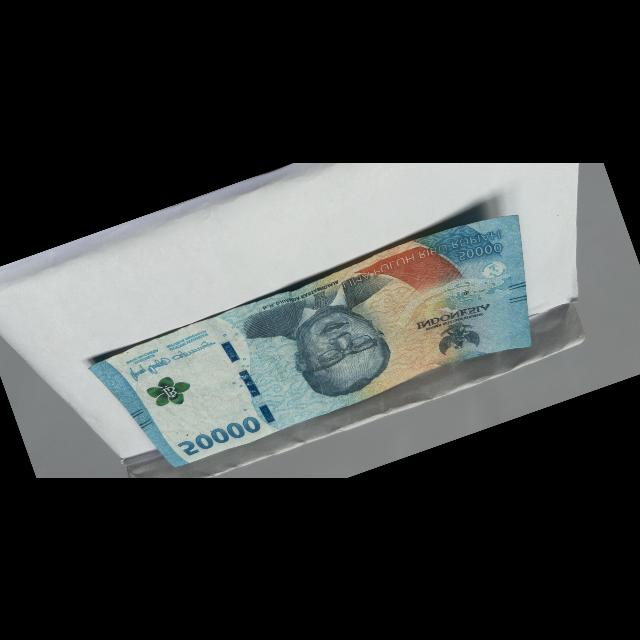Palsu-50k: (78, 198, 567, 490)
Tinta-Palsu-50k: (143, 367, 198, 416)
